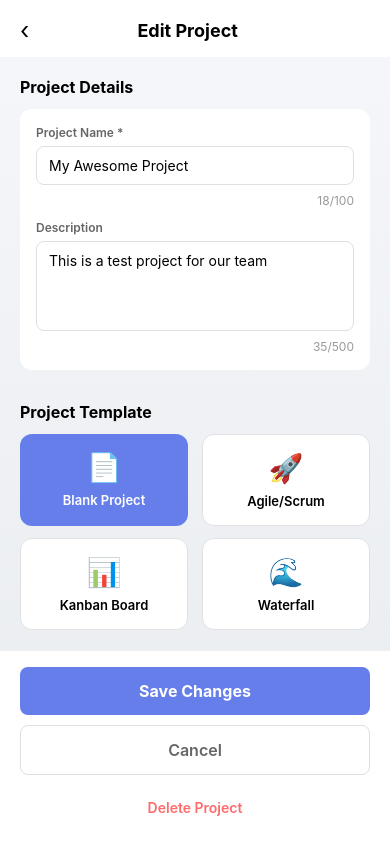
EditProjectScreen › Form Validation › should require project name
Clear the field with placeholder "Enter project name" at (195, 166), box [36,146,354,185]
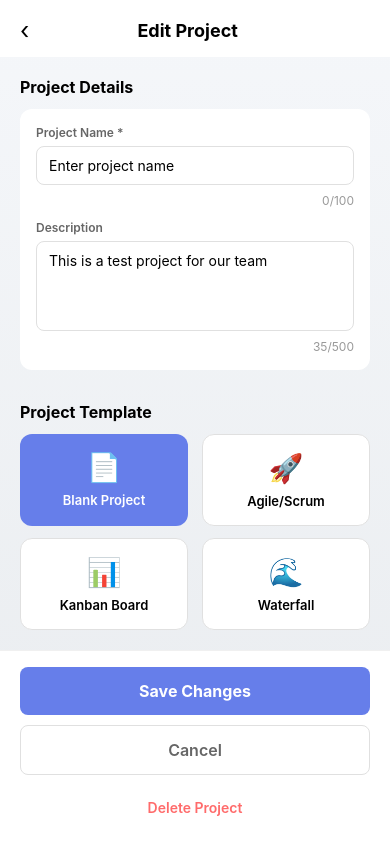
Click the text "Save Changes" at (195, 691), box [139,681,251,701]
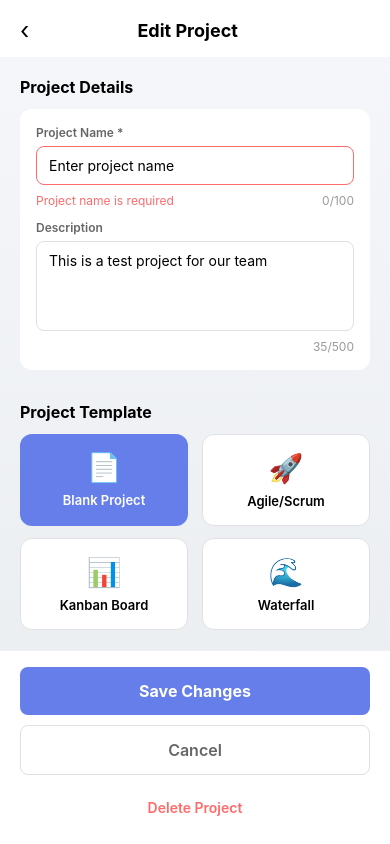
Expected: the text "Project name is required" is shown, [36,193,174,208]
